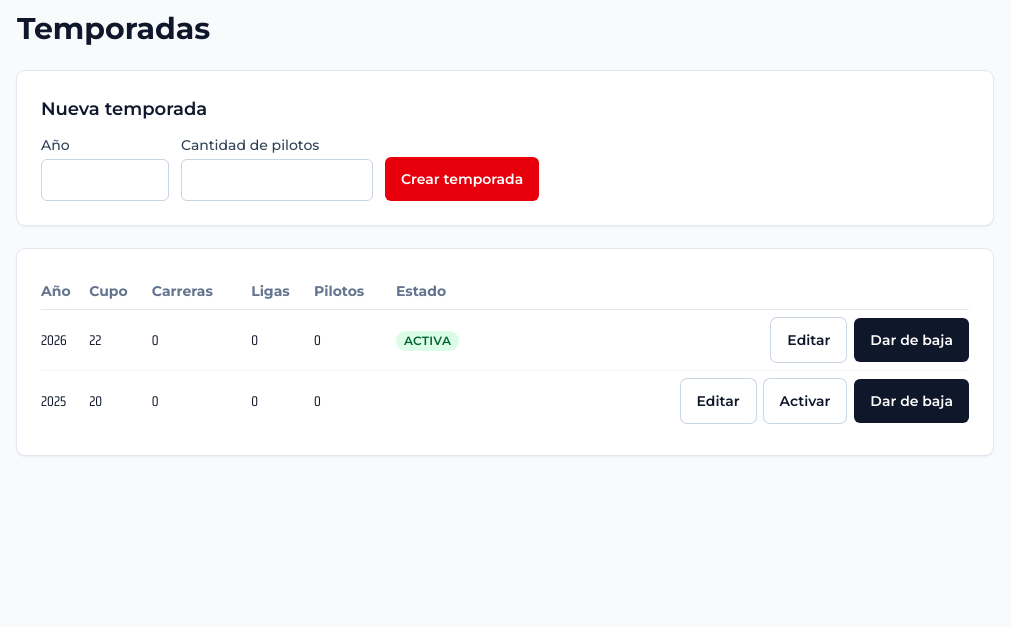
Scenario: SeasonsPage › muestra en castellano el error del backend cuando la baja se rechaza
This screenshot has width=1011, height=627.
Click the button "Dar de baja" in the row of "2025". click: (912, 401)
box: left=854, top=379, right=969, bottom=423
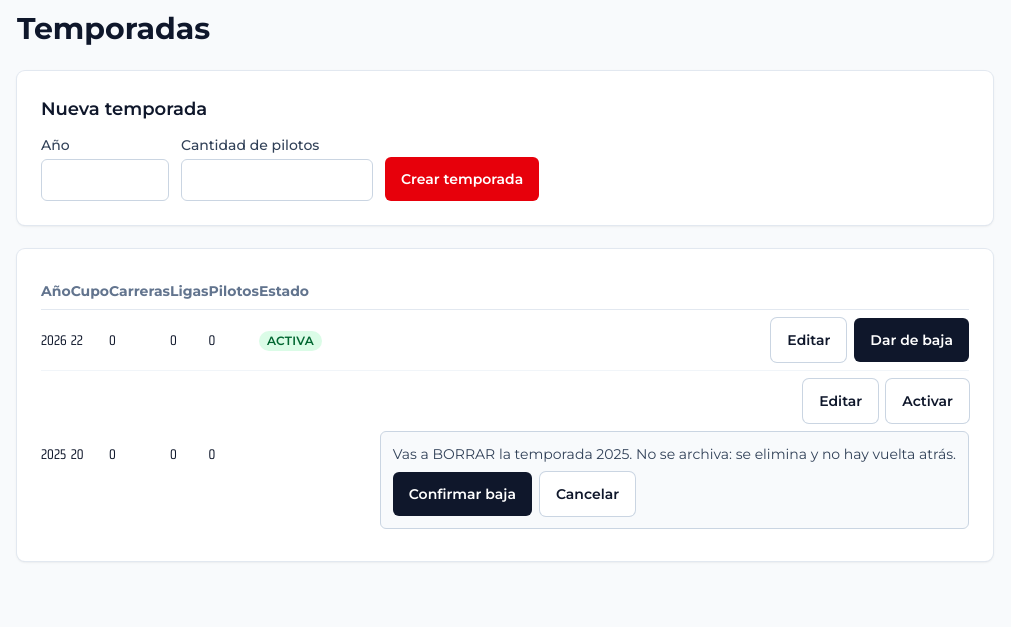
Click the button "Confirmar baja". click: (462, 494)
box: left=393, top=472, right=532, bottom=516
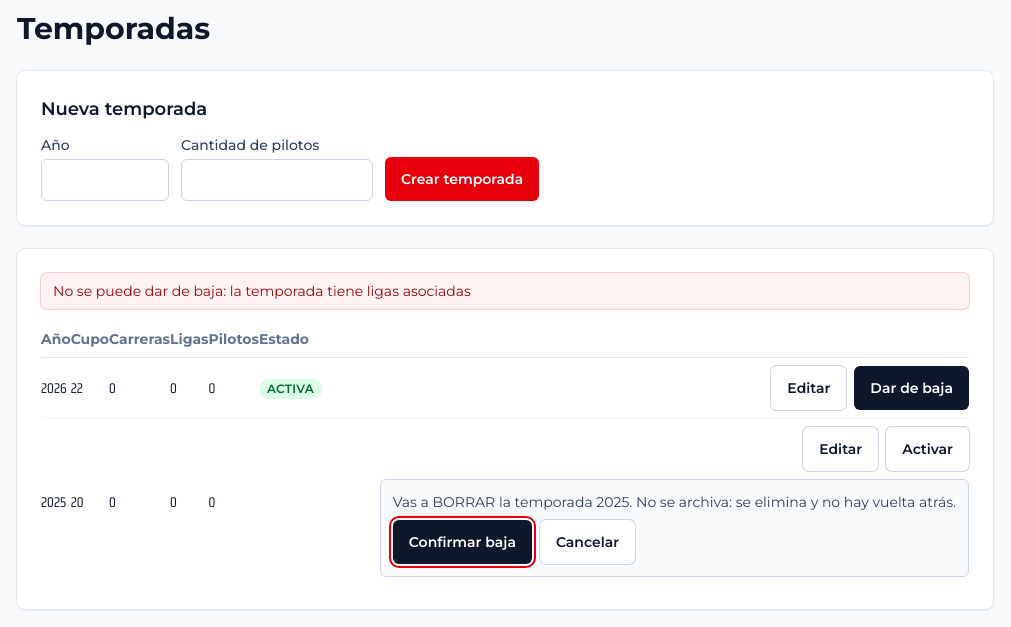
Result: the text "No se puede dar de baja: la temporada tiene ligas asociadas" is shown at left=41, top=273, right=969, bottom=309
